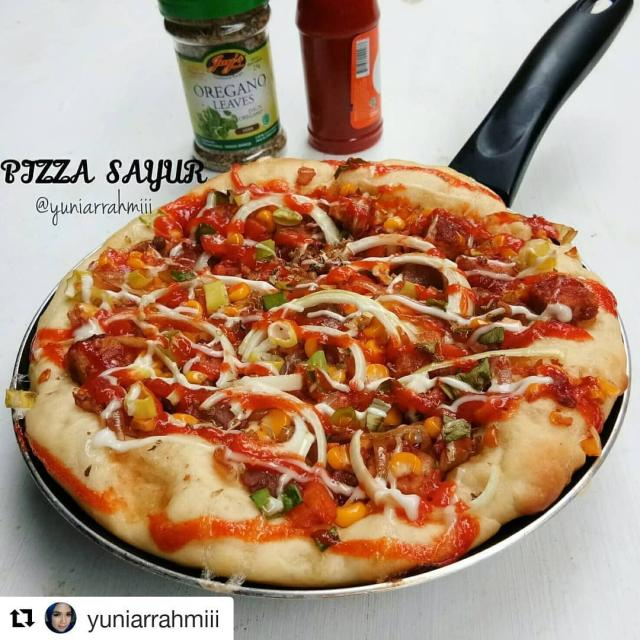pizza: (7, 158, 630, 593)
